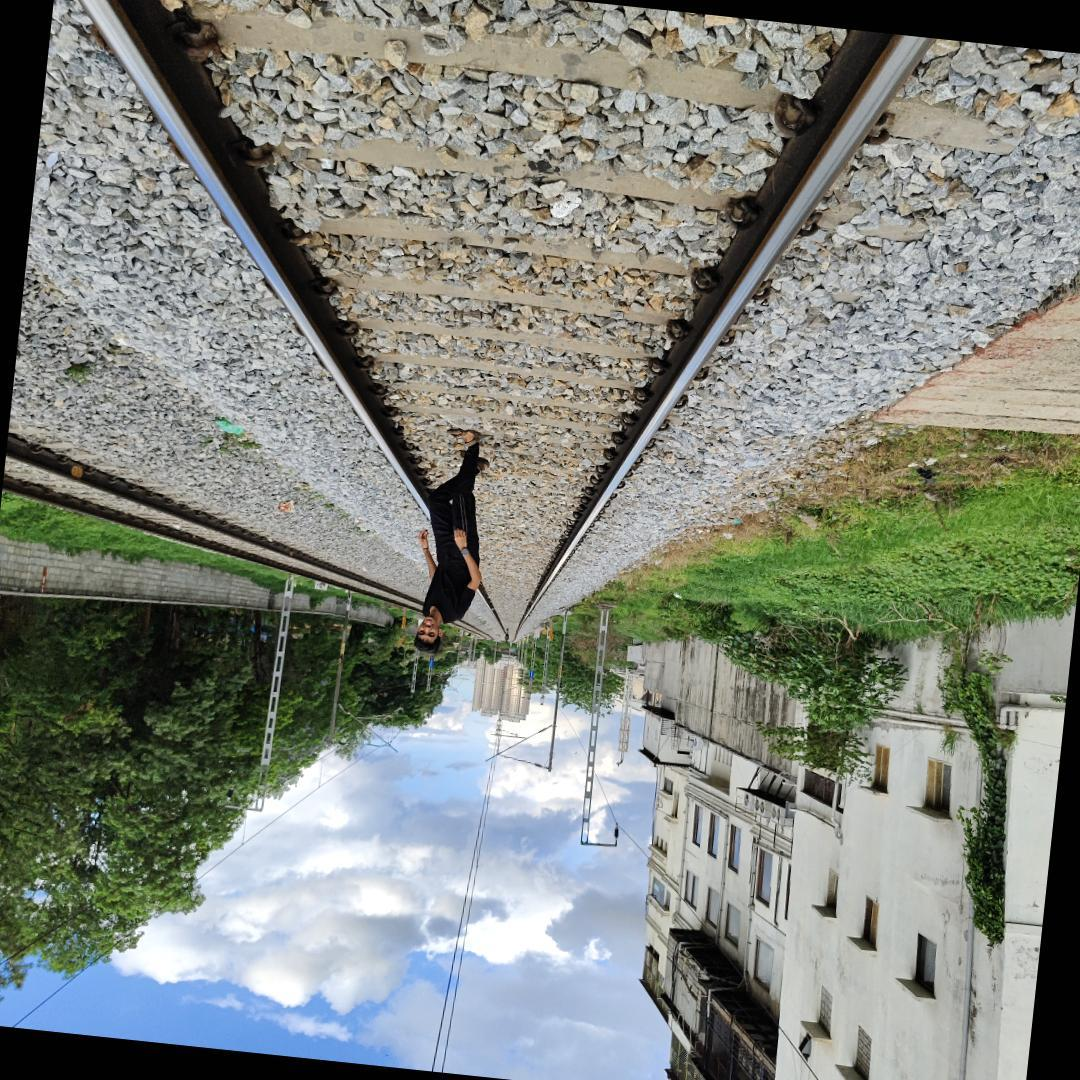standing: (403, 420, 504, 660)
